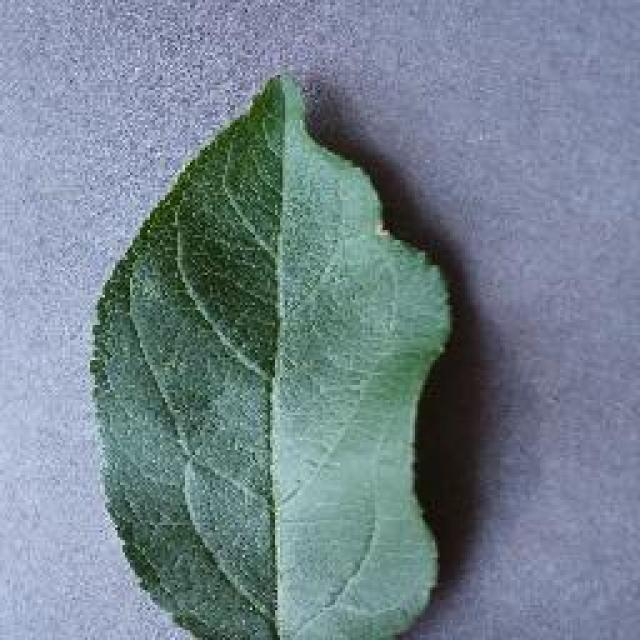apple healthy: (85, 68, 455, 638)
